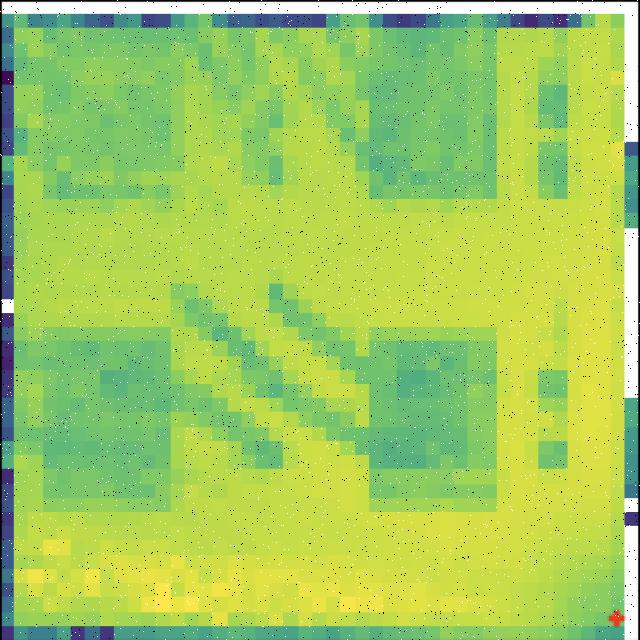Concrete: (43, 327, 172, 513)
Glass: (362, 34, 500, 200)
Metal: (42, 38, 188, 201)
Wood: (368, 328, 501, 500)
